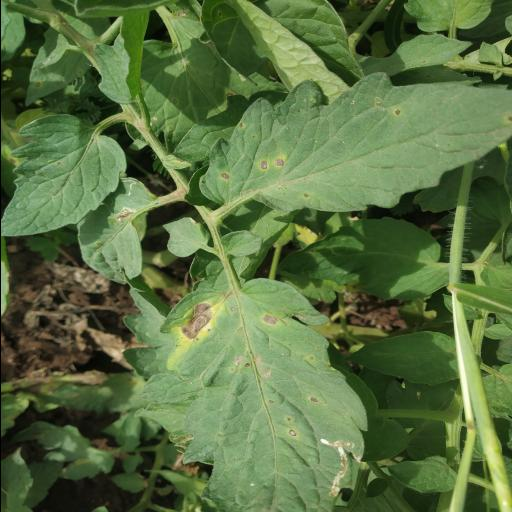disease_tomato: (126, 280, 366, 512), (198, 74, 512, 212)
